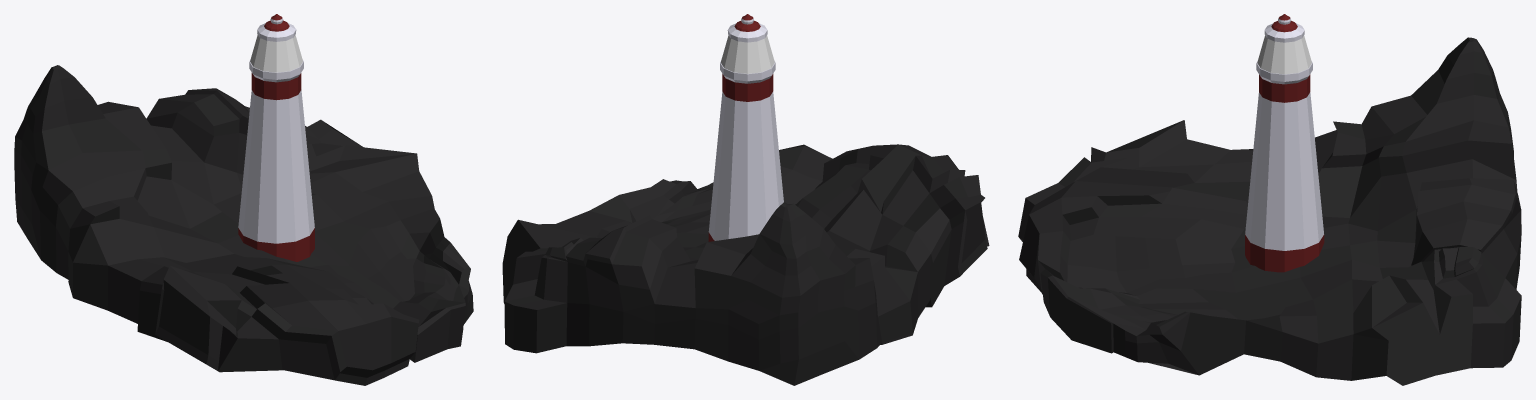
Rendered from Lighthouse.fbx.
The picture shows the model from 3 angles, left to right: view 1: azimuth 30°, elevation 25°; view 2: azimuth 150°, elevation 25°; view 3: azimuth 270°, elevation 25°; orthographic projection. The views are drawn at different scales.
Parts seen in each view (by area): view 1: Rocks, Lighthouse; view 2: Rocks, Lighthouse; view 3: Rocks, Lighthouse.
Part boxes in pixels (<box>): Rocks: <box>14,65,473,385</box>; Lighthouse: <box>238,14,314,261</box>; Rocks: <box>502,144,989,385</box>; Lighthouse: <box>708,14,783,241</box>; Rocks: <box>1018,37,1521,385</box>; Lighthouse: <box>1245,14,1324,272</box>.
Bounding box in the file's own units: 11096 × 8125 × 12736.
